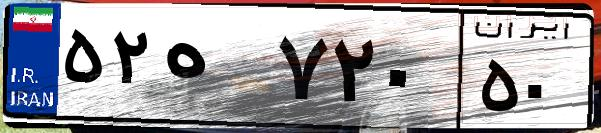0: (385, 28, 445, 110), (525, 38, 570, 115)
2: (330, 28, 385, 110), (110, 28, 158, 98)
5: (57, 26, 110, 100), (475, 38, 525, 113)
7: (270, 28, 330, 110)
ه: (158, 20, 270, 120)
